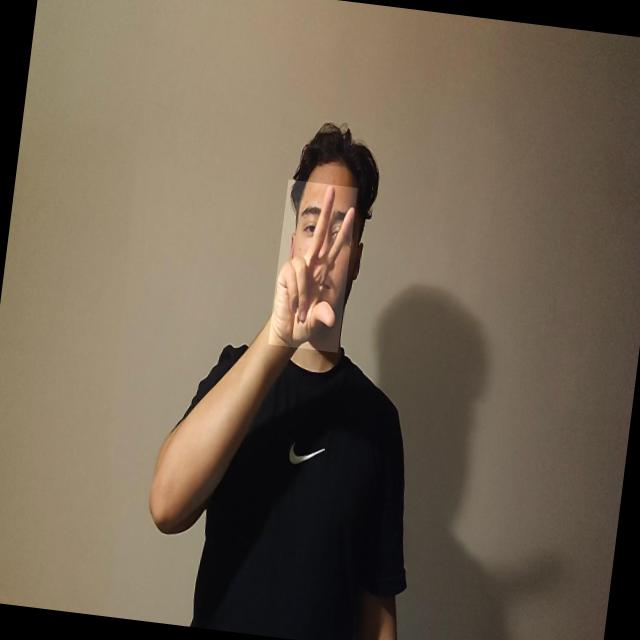no: (268, 179, 358, 352)
